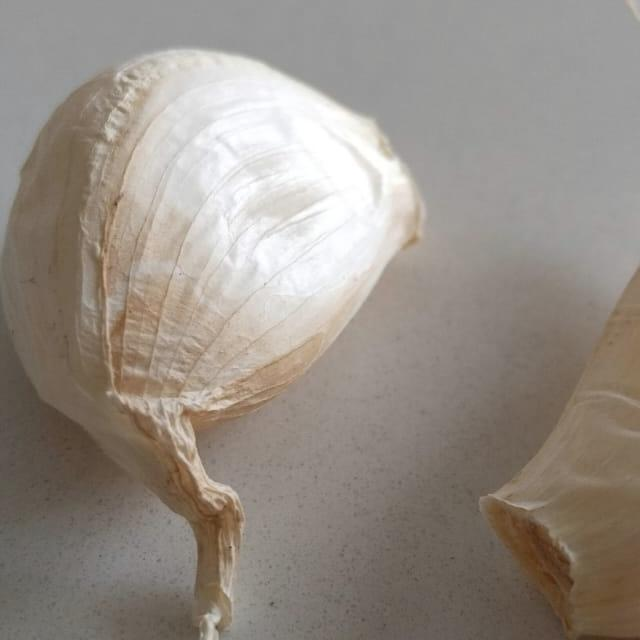garlic: (0, 0, 460, 505), (453, 68, 640, 640)
